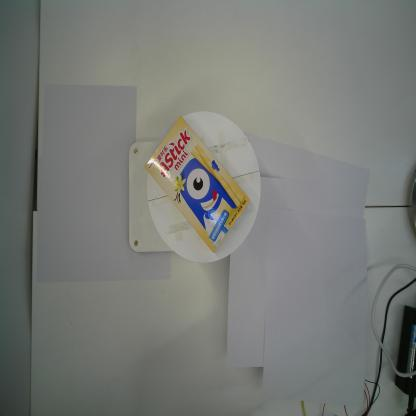Dessert: (143, 113, 251, 254)
